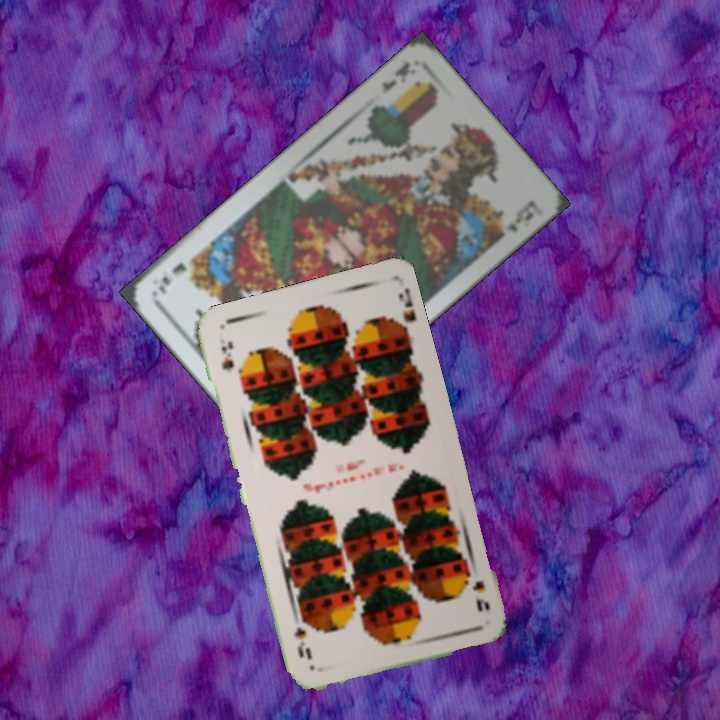EK: (377, 57, 413, 96)
S9: (460, 563, 493, 614), (217, 338, 237, 374)
